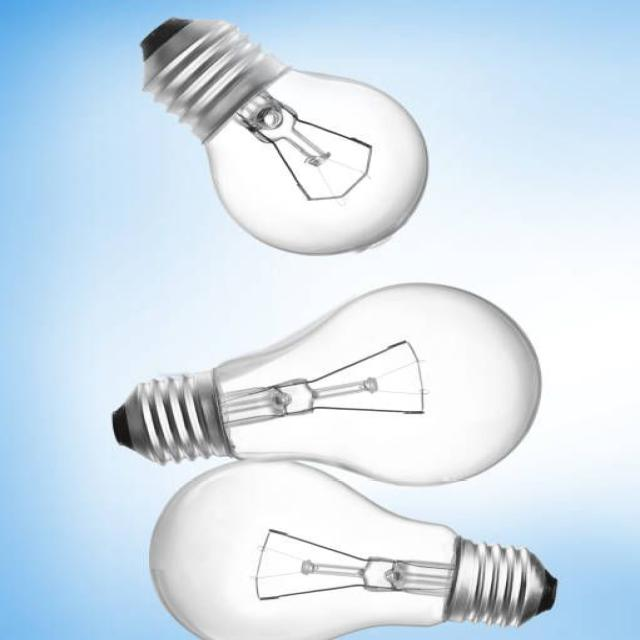electronic: (110, 280, 542, 488), (147, 457, 558, 639), (138, 15, 430, 256)
